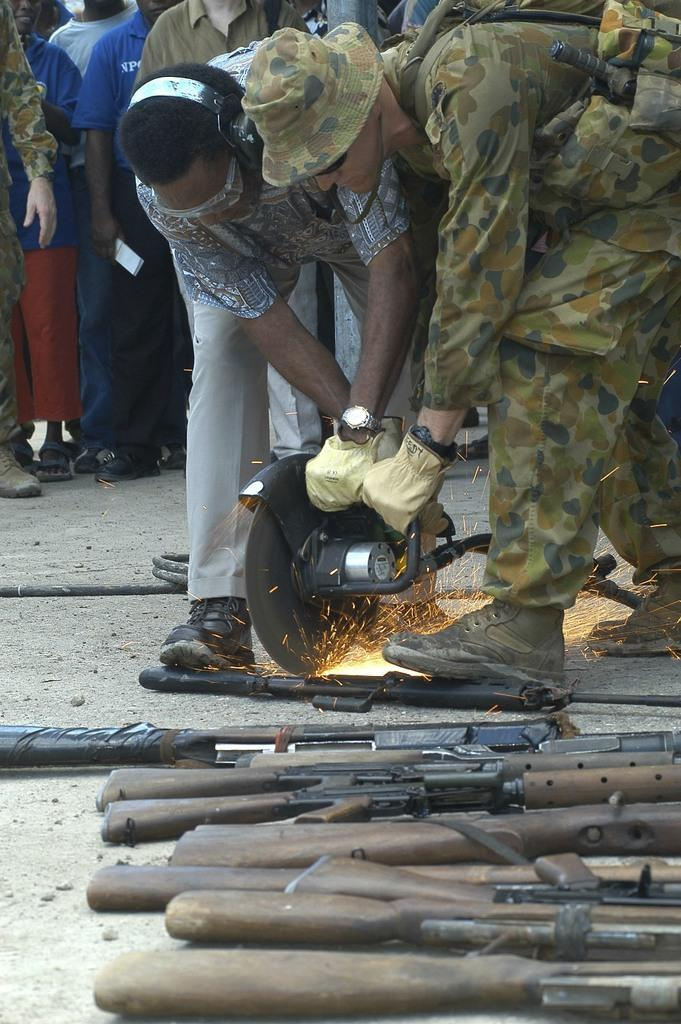Rifle: (96, 946, 680, 1023)
